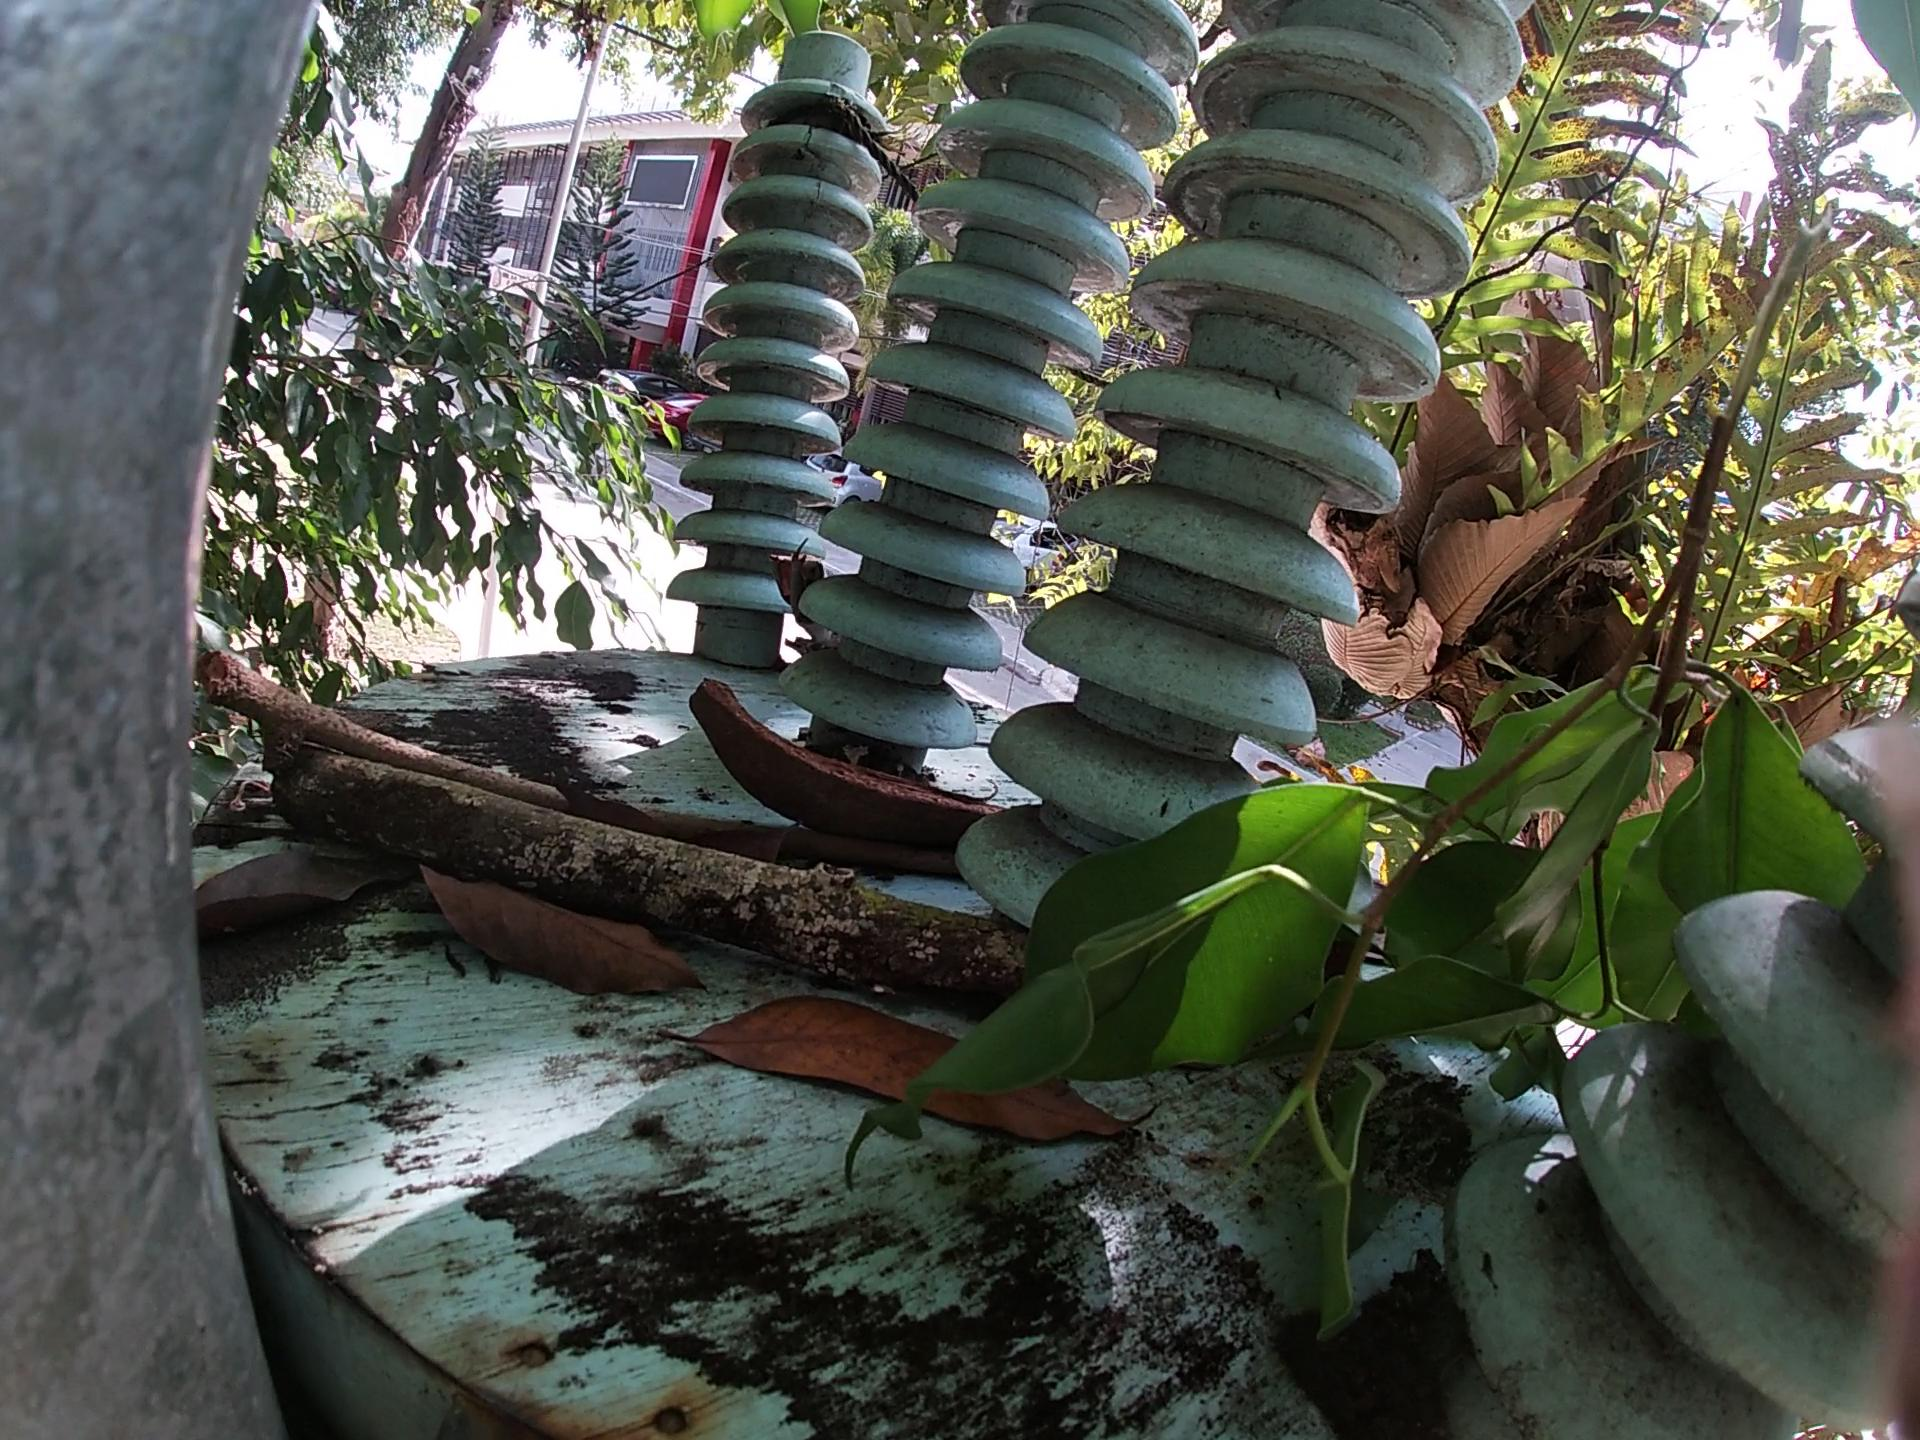branch with leaves: (1040, 221, 1853, 1337)
leaf: (655, 1030, 1172, 1150), (410, 874, 720, 1013), (147, 833, 376, 985)
mahogany fruit: (689, 672, 1042, 871)
tree branch: (262, 738, 1107, 1013), (190, 641, 785, 846)
